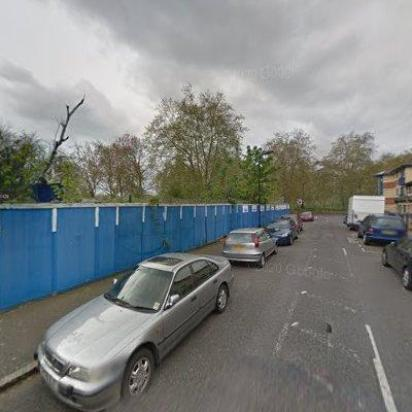moving-car: (301, 210, 313, 222)
stationary-car-onstreet: (35, 252, 233, 410), (222, 226, 280, 270), (378, 232, 412, 292), (358, 212, 406, 248), (263, 220, 301, 246), (280, 213, 302, 230)
stationary-heavy-truck-onstreet: (346, 194, 387, 232)
